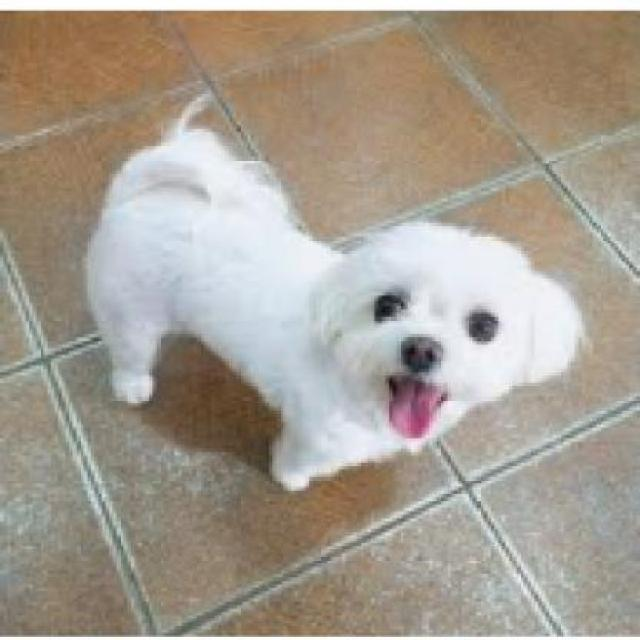Dog: (80, 88, 591, 498)
